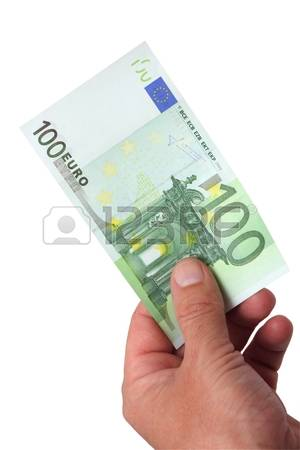billete: (17, 40, 293, 351)
